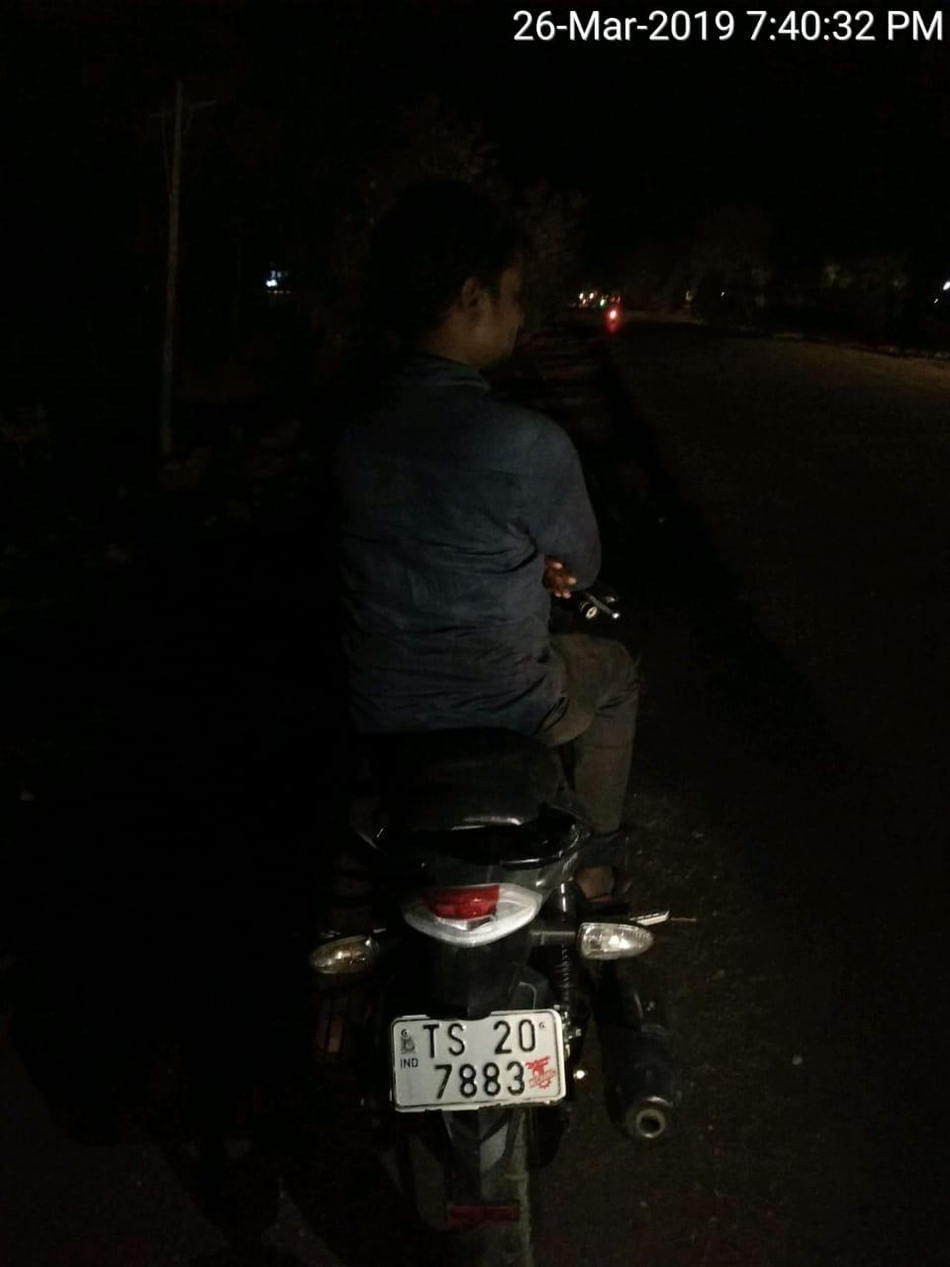plate: (371, 1004, 577, 1126)
